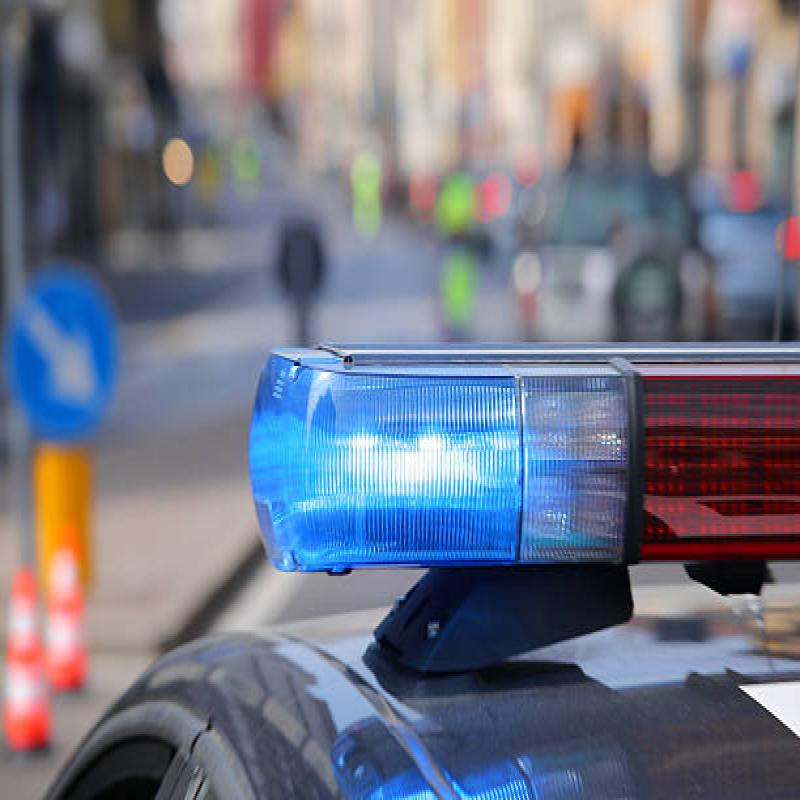AmbulanceSiren: (213, 262, 800, 649)
